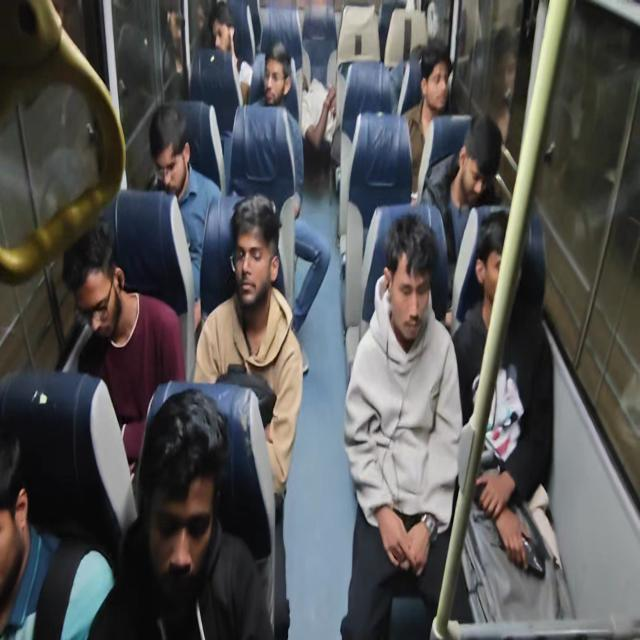person: (130, 386, 228, 593), (55, 214, 134, 352), (375, 210, 439, 354), (226, 198, 276, 322), (0, 415, 34, 593), (148, 98, 194, 204), (478, 224, 530, 315), (459, 114, 498, 210), (416, 44, 452, 114), (262, 39, 291, 104), (210, 0, 237, 61), (409, 46, 425, 64)
